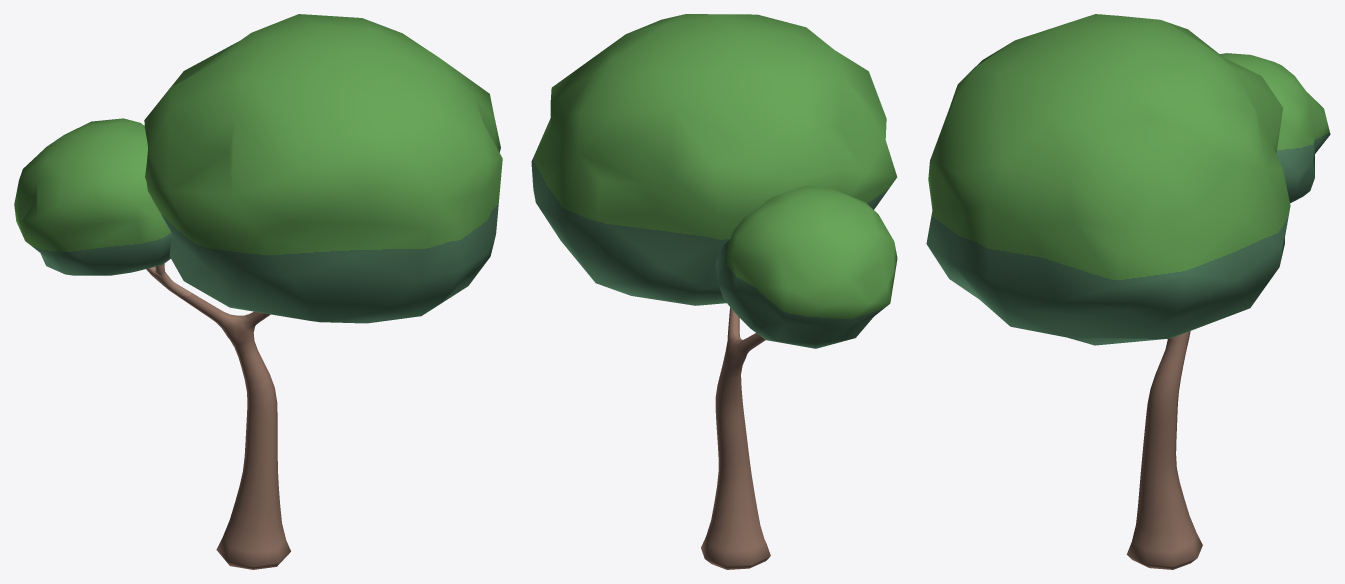
File: arbol_01.fbx
The picture shows the model from 3 angles, left to right: view 1: azimuth 30°, elevation 25°; view 2: azimuth 150°, elevation 25°; view 3: azimuth 270°, elevation 25°; orthographic projection. The views are drawn at different scales.
Parts seen in each view (by area): view 1: arbol_01; view 2: arbol_01; view 3: arbol_01.
Part boxes in pixels (x1,y1,x2,y2): arbol_01: (14,14,502,569); arbol_01: (531,14,897,569); arbol_01: (926,14,1330,569).
Bounding box in the file's own units: 2102 × 2531 × 1707.
